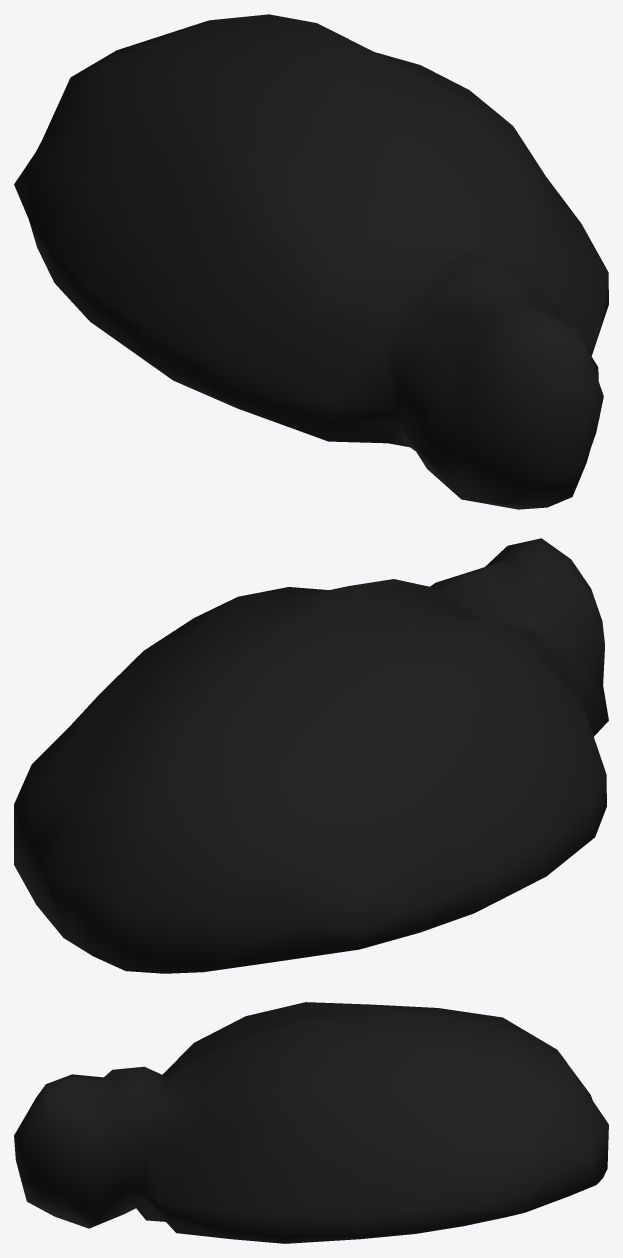
File: hairStyle2.glb
The picture shows the model from 3 angles, top to bottom: view 1: azimuth 30°, elevation 25°; view 2: azimuth 150°, elevation 25°; view 3: azimuth 270°, elevation 25°; orthographic projection. The views are drawn at different scales.
Parts seen in each view (by area): view 1: bonHair; view 2: bonHair; view 3: bonHair.
Part boxes in pixels (left/top/right/bottom): bonHair: left=14, top=14, right=608, bottom=509; bonHair: left=14, top=538, right=608, bottom=973; bonHair: left=14, top=1002, right=608, bottom=1243.
Bounding box in the file's own units: 0.1514 × 0.0953 × 0.2471.
Materials: 1 (1 with a texture image).
